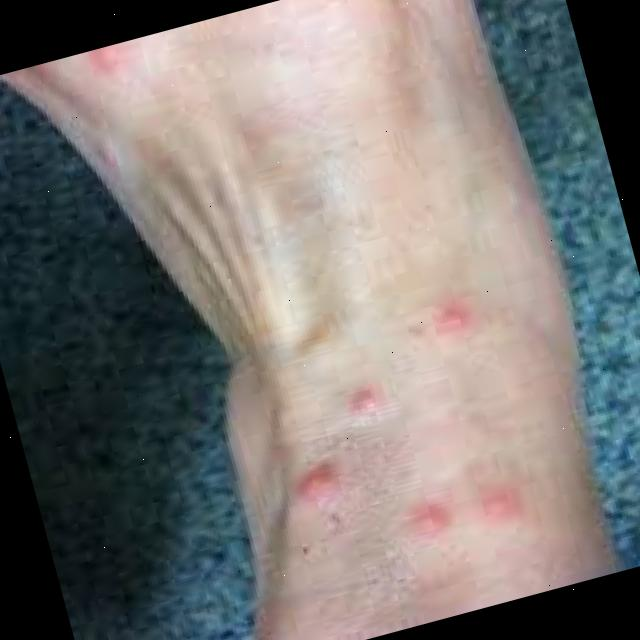kan emici bocekler: (277, 462, 365, 530), (462, 480, 562, 535), (405, 295, 487, 356), (272, 322, 347, 384), (340, 377, 407, 426), (406, 503, 459, 551)
